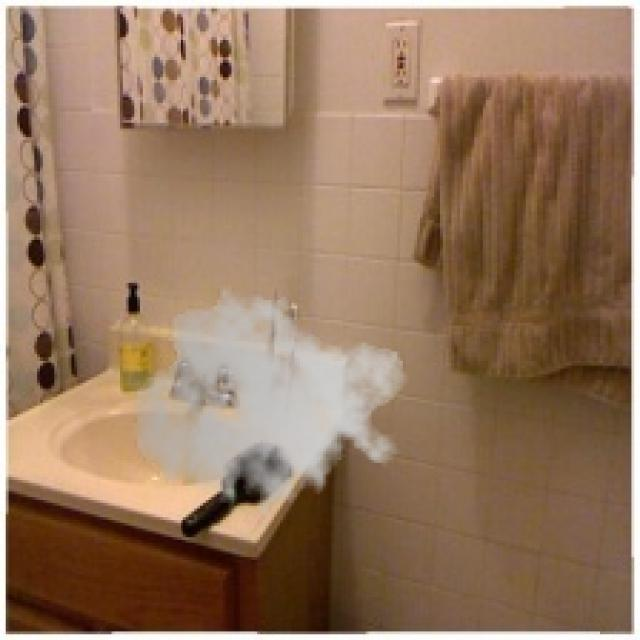Smoke: (132, 279, 408, 532)
